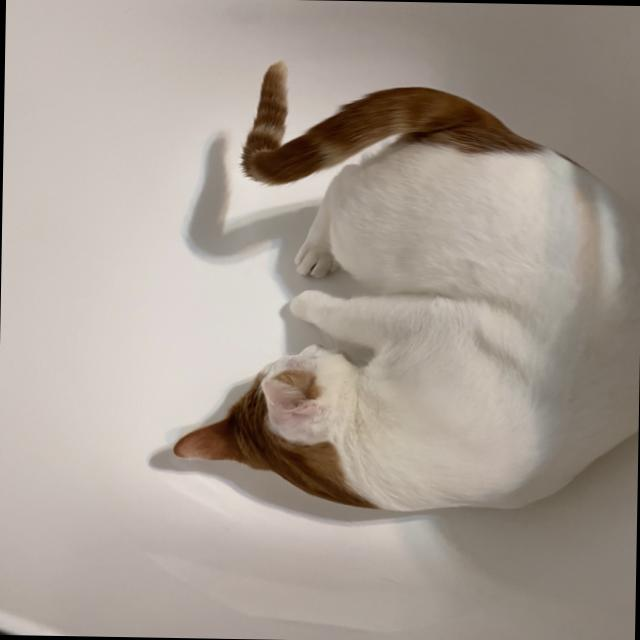cat1: (164, 53, 640, 514)
